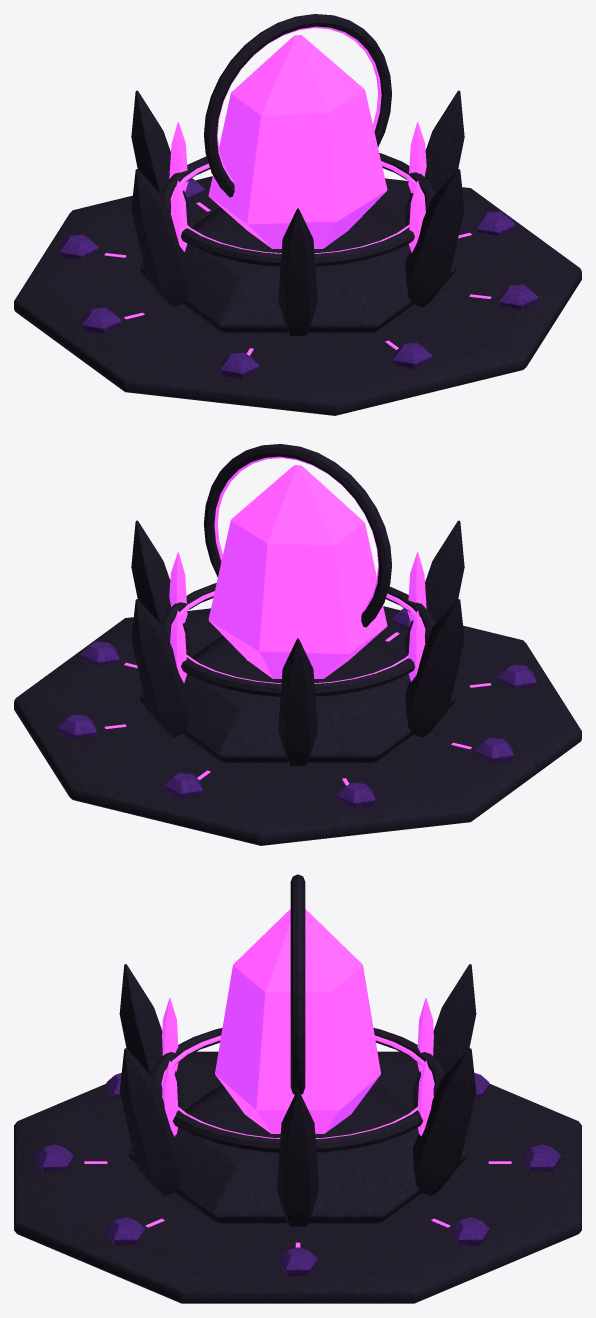
File: conclave_noyau_cristallin.gltf
3 views of the same model, one above another, from view 1: azimuth 30°, elevation 25°; view 2: azimuth 150°, elevation 25°; view 3: azimuth 270°, elevation 25° (orthographic). The views are drawn at different scales.
Parts seen in each view (by area): view 1: Root_Geometry, Rotor_0_Geometry; view 2: Root_Geometry, Rotor_0_Geometry; view 3: Root_Geometry, Rotor_0_Geometry.
Part boxes in pixels (x1,y1,x2,y2): Root_Geometry: [14, 35, 581, 415]; Rotor_0_Geometry: [160, 14, 435, 266]; Root_Geometry: [14, 465, 581, 845]; Rotor_0_Geometry: [160, 444, 435, 696]; Root_Geometry: [14, 909, 581, 1303]; Rotor_0_Geometry: [150, 874, 445, 1152].
Size of the model in its own units: 5.88 by 3.43 by 5.88.
3 materials, 2 textured.
